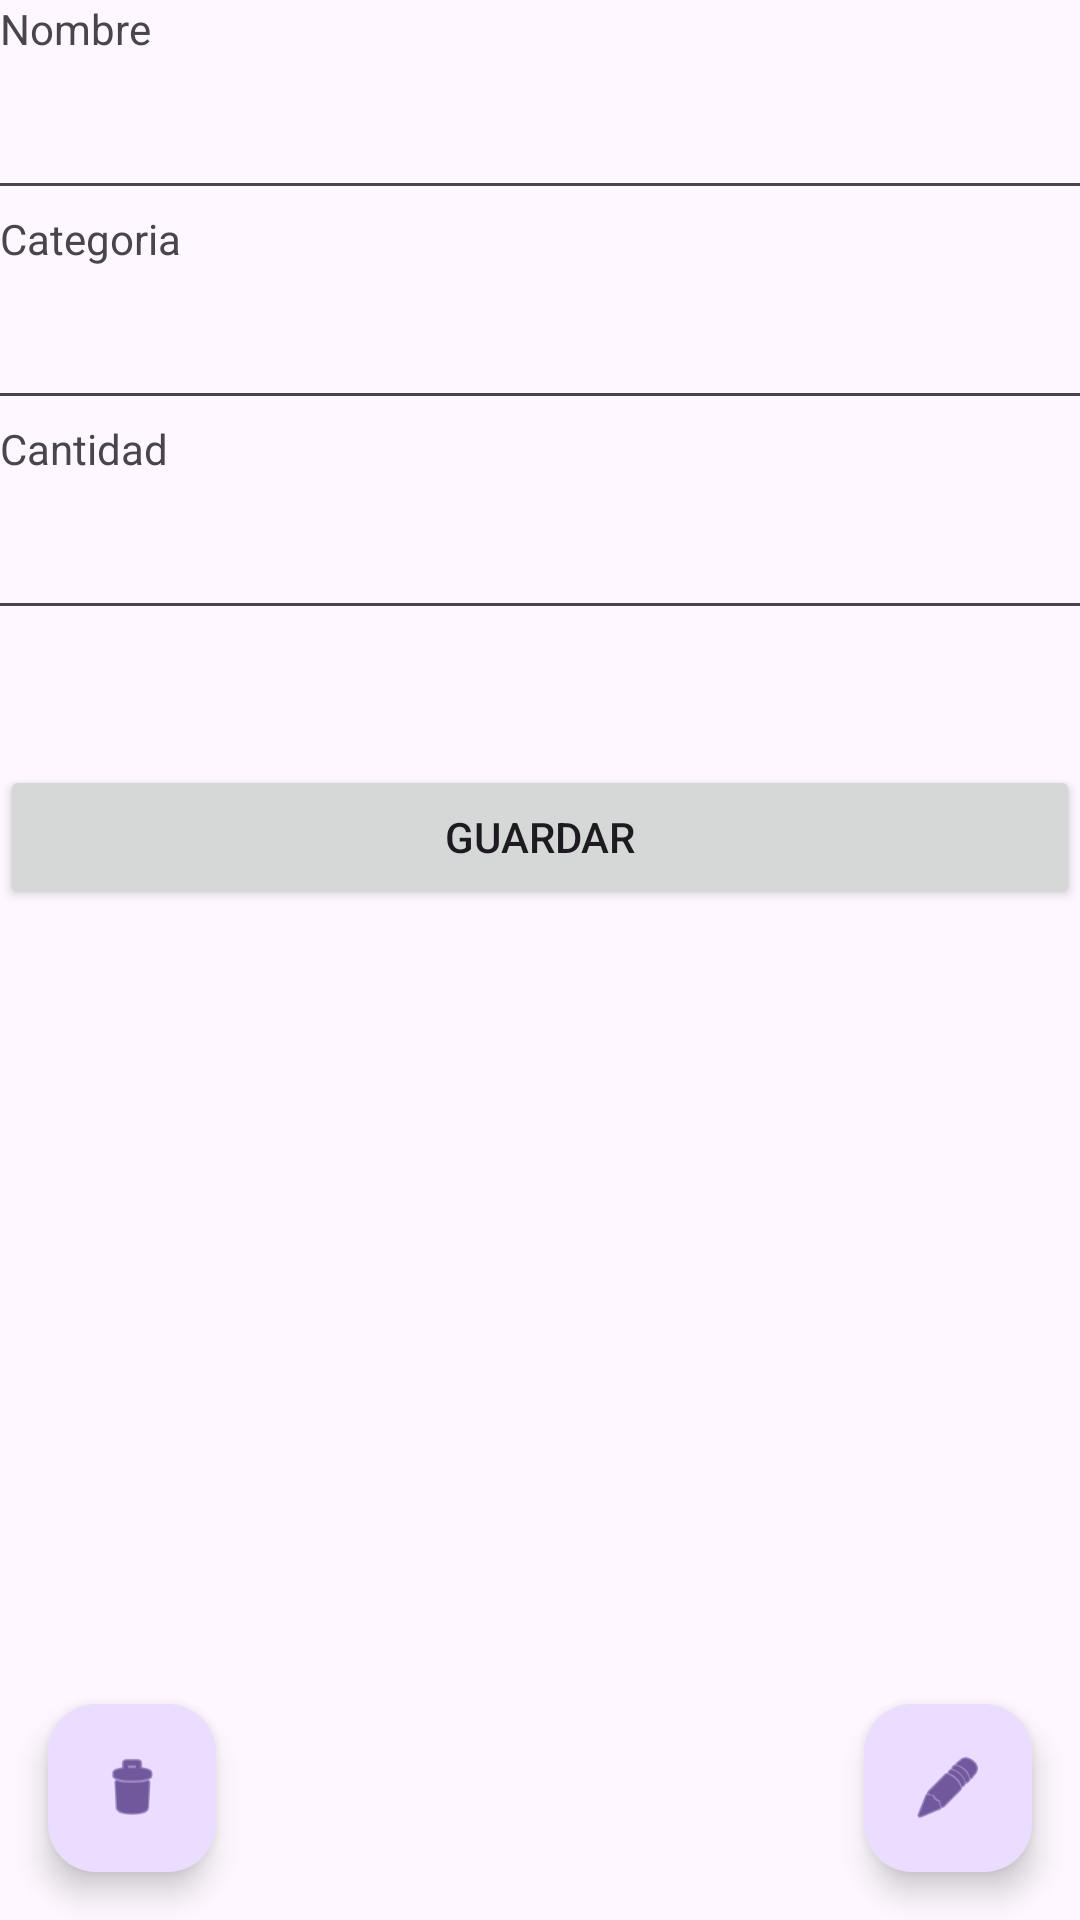

Where to tap for icons on this 1080px×1920px app screen, as point (x, y):
delete: point (132, 1788)
edit: point (948, 1788)
